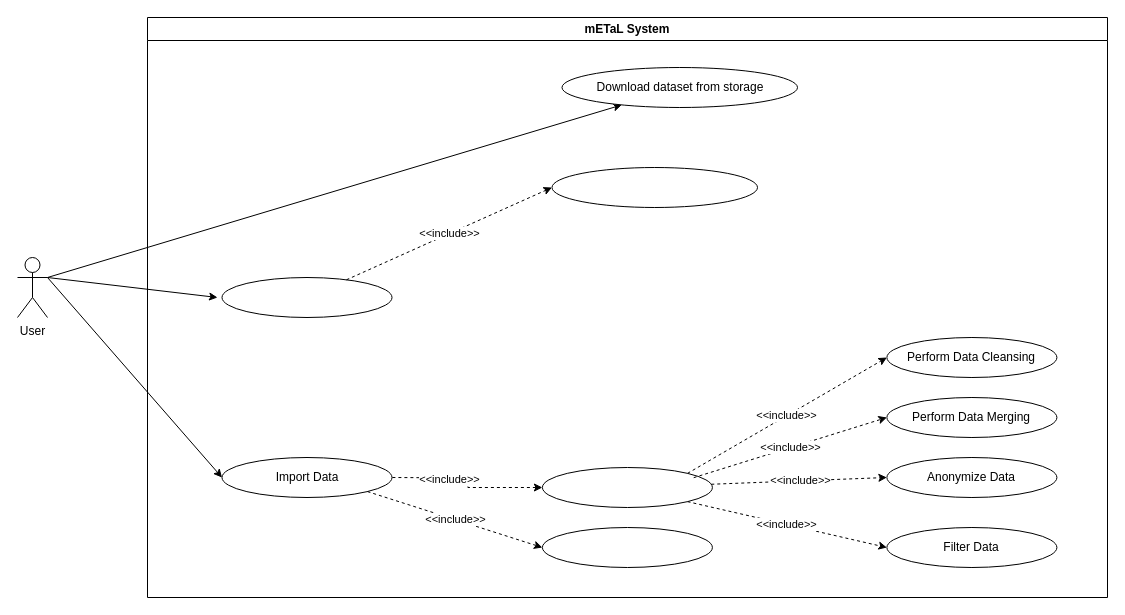
Image size: 1125x615. Some labels were removed from this diagram. The shapes that lost their labels are listed below. From the top down, each one's centre as x and y in pixels, then its label:
At point 654,187: "Generate link for download dataset".
At point 306,297: "Export Data".
At point 626,487: "Transform Data".
At point 626,547: "Perform Data Quality Checks".
